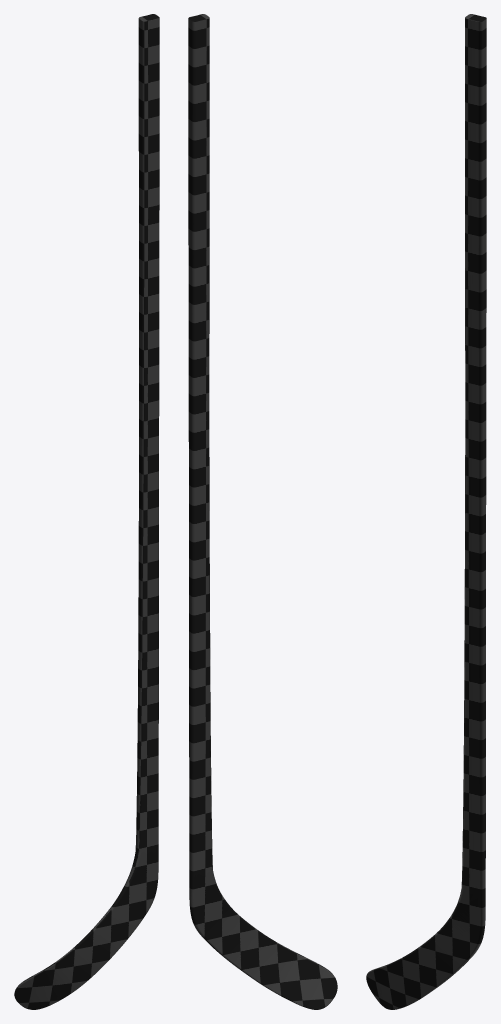
File: P114-SBT.glb
3 renders of one model, left to right at view 1: azimuth 30°, elevation 25°; view 2: azimuth 210°, elevation 25°; view 3: azimuth 330°, elevation 25°, orthographic. The views are drawn at different scales.
Parts seen in each view (by area): view 1: geometry_0; view 2: geometry_0; view 3: geometry_0.
Part boxes in pixels (box(x1,y1,x2,y2)): geometry_0: box(14, 14, 159, 1009); geometry_0: box(188, 14, 337, 1009); geometry_0: box(366, 14, 486, 1009).
Size of the model in its own units: 225 by 1650 by 62.19.
1 material, 1 textured.
